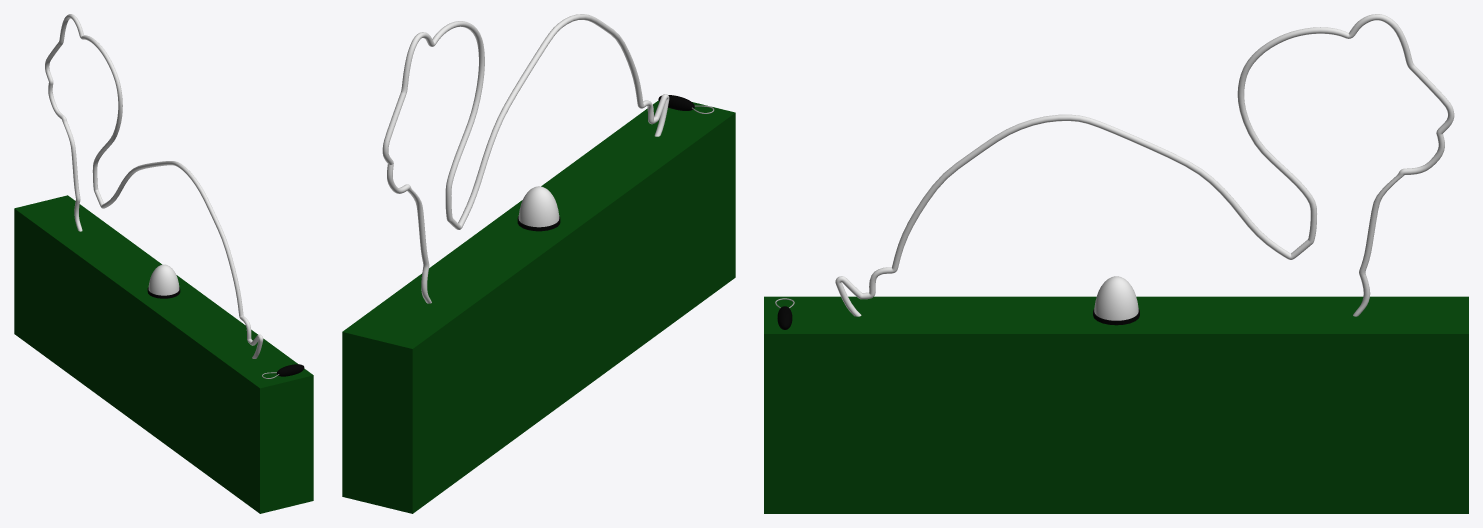
File: Prueba de pulso.fbx
The picture shows the model from 3 angles, left to right: view 1: azimuth 30°, elevation 25°; view 2: azimuth 150°, elevation 25°; view 3: azimuth 270°, elevation 25°; orthographic projection. The views are drawn at different scales.
Parts seen in each view (by area): view 1: Base Pulso, Barilla electrica, Cubierta foco; view 2: Base Pulso, Barilla electrica, Cubierta foco; view 3: Base Pulso, Barilla electrica, Cubierta foco.
Boxes of the visible parts, x1,y1,x2,y2 form: Base Pulso: [14, 195, 313, 513]; Barilla electrica: [45, 14, 263, 358]; Cubierta foco: [148, 264, 179, 295]; Base Pulso: [342, 100, 735, 513]; Barilla electrica: [382, 14, 669, 303]; Cubierta foco: [518, 186, 559, 227]; Base Pulso: [764, 296, 1468, 513]; Barilla electrica: [835, 14, 1454, 316]; Cubierta foco: [1094, 276, 1138, 320].
Bounding box in the file's own units: 300 × 37.78 × 226.
